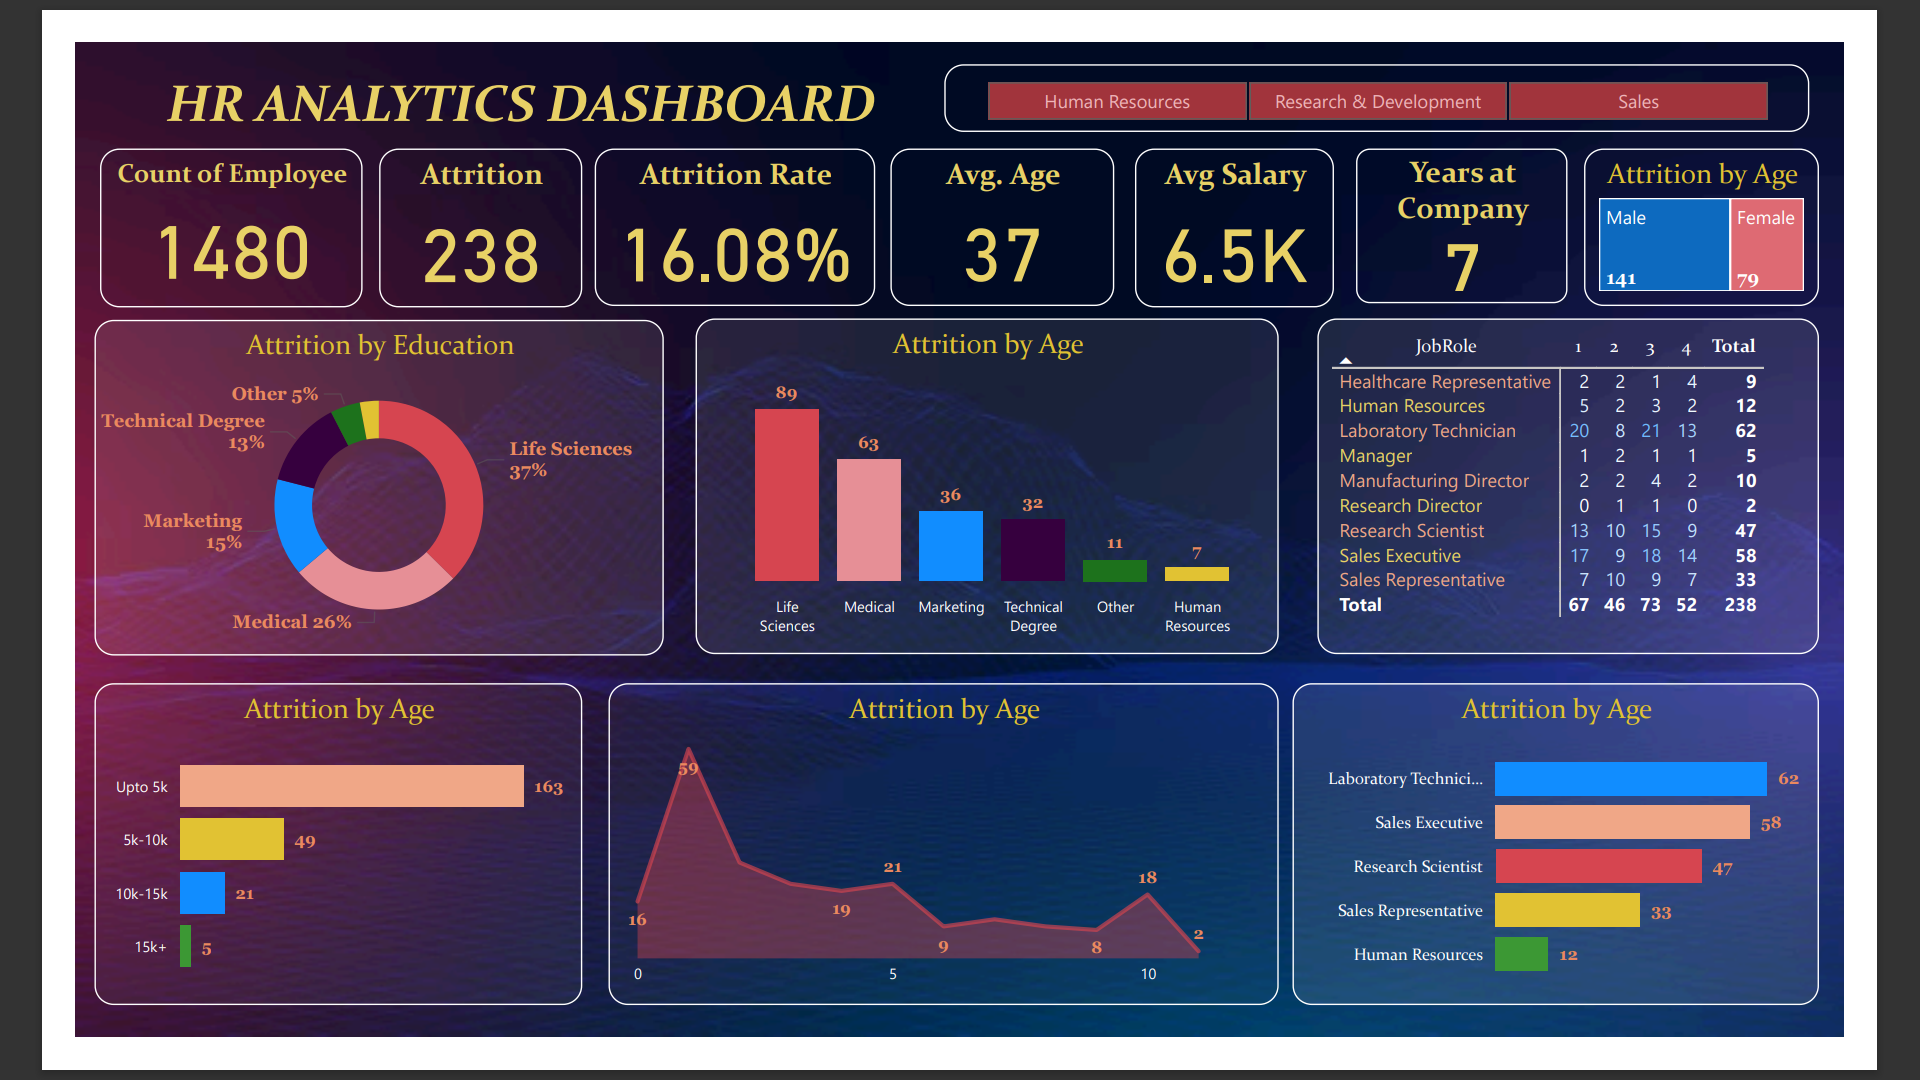

The dashboard page shown, as its layout file describes it:
{"tool":"powerbi","page":{"name":"Page 1","canvas":[1280,720],"ordinal":0},"visuals":[{"type":"card","title":"Count of Employee","fields":{"Values":["Sum(Sheet1.EmployeeCount)"]},"box":[9.7,13.3,200.3,100.1],"z":0},{"type":"card","title":" Attrition","fields":{"Values":["Sum(Sheet1.Attrition)"]},"box":[210.6,14.5,200.9,100.4],"z":1000},{"type":"card","title":"Attrition Rate","fields":{"Values":["Sheet1.Attrition Rate"]},"box":[422.3,13.3,199.7,100.4],"z":2000},{"type":"card","title":"Avg. Age","fields":{"Values":["Avg(Sheet1.Age)"]},"box":[639.4,14.5,199.1,98.9],"z":3000},{"type":"card","title":"Avg Salary","fields":{"Values":["Avg(Sheet1.MonthlyIncome)"]},"box":[853,14.5,199.1,98.9],"z":4000},{"type":"card","title":"Avg Years","fields":{"Values":["Avg(Sheet1.YearsAtCompany)"]},"box":[1064.1,14.5,199.1,98.9],"z":5000},{"type":"donutChart","title":"Attrition by Education","fields":{"Category":["Sheet1.EducationField"],"Y":["Sum(Sheet1.Attrition)"]},"box":[19.4,127.1,429.6,244.4],"z":6000},{"type":"columnChart","title":"Attrition by Age","fields":{"Category":["Sheet1.EducationField"],"Y":["Sum(Sheet1.Attrition)"]},"box":[429.5,135.1,423.5,230.4],"z":7000},{"type":"pivotTable","fields":{"Rows":["Sheet1.JobRole"],"Columns":["Sheet1.JobSatisfaction"],"Values":["Sum(Sheet1.Attrition)"]},"box":[885.5,127.9,349.9,231.6],"z":7001}]}

Visuals, with their boxes in screenshot pixels (x1, y1, x2, y2), scaled from the page's 1280x720 canvas onto the 1920x1080 screenshot:
"Count of Employee" card: bbox=[15, 20, 315, 170]
" Attrition" card: bbox=[316, 22, 617, 172]
"Attrition Rate" card: bbox=[633, 20, 933, 171]
"Avg. Age" card: bbox=[959, 22, 1258, 170]
"Avg Salary" card: bbox=[1280, 22, 1578, 170]
"Avg Years" card: bbox=[1596, 22, 1895, 170]
"Attrition by Education" donutChart: bbox=[29, 191, 674, 557]
"Attrition by Age" columnChart: bbox=[644, 203, 1280, 548]
pivotTable - Sheet1.JobRole x Sheet1.JobSatisfaction: bbox=[1328, 192, 1853, 539]
